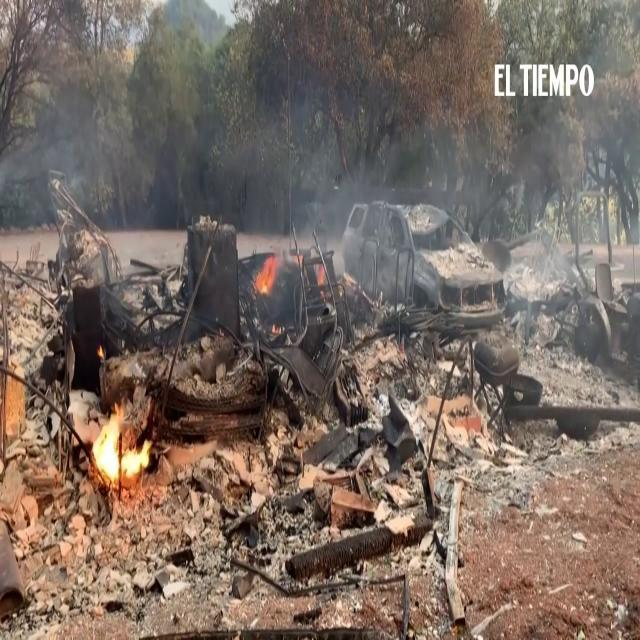Fire: (95, 410, 153, 482), (252, 252, 278, 294)
